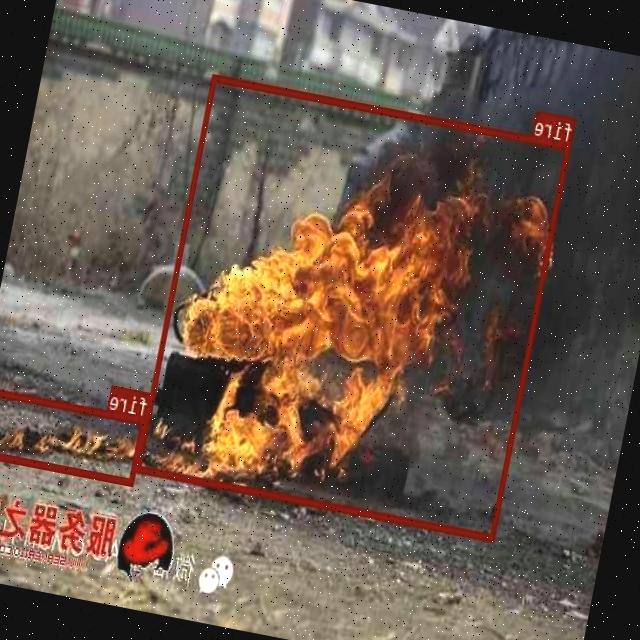fire: (137, 73, 572, 540), (0, 386, 147, 485)
